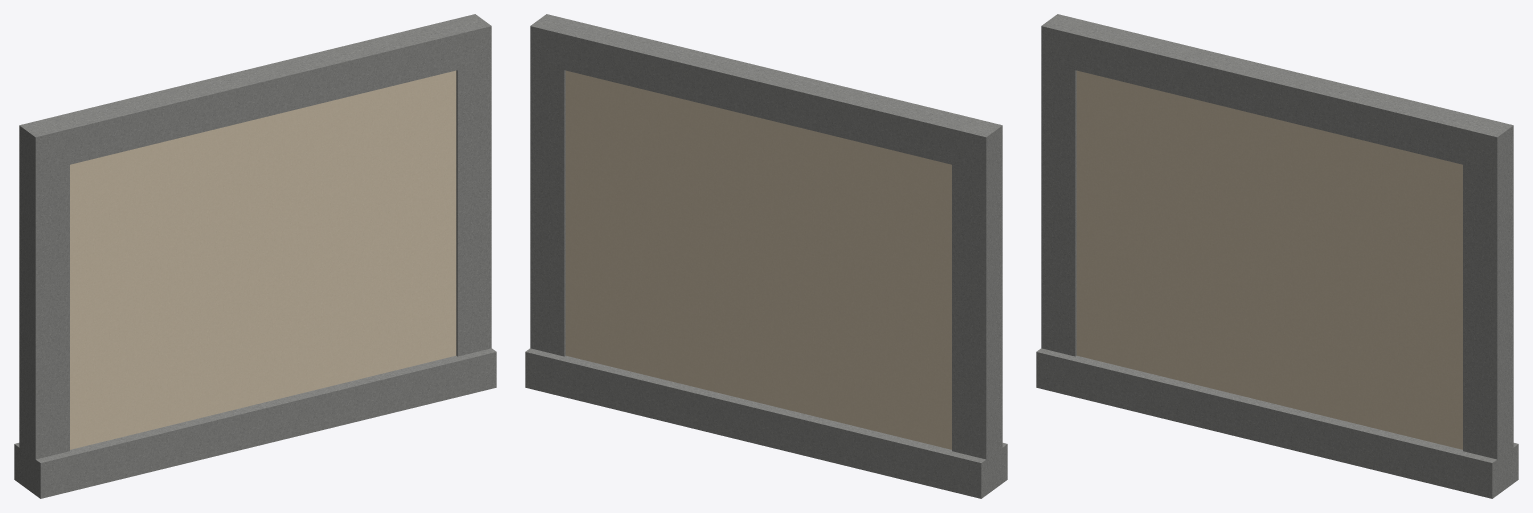
Rendered from estate_wall_4p.glb.
3 views of the same model, side by side, from view 1: azimuth 30°, elevation 25°; view 2: azimuth 150°, elevation 25°; view 3: azimuth 330°, elevation 25° (orthographic).
Visible parts, largest first — view 1: Cube.004, Cube.003, Cube, Cube.001, Cube.002; view 2: Cube.004, Cube.003, Cube, Cube.001, Cube.002; view 3: Cube.004, Cube.003, Cube, Cube.002, Cube.001.
Part boxes in pixels (left/top/right/bottom): Cube.004: left=70, top=70, right=456, bottom=449; Cube.003: left=19, top=14, right=491, bottom=172; Cube: left=14, top=348, right=496, bottom=498; Cube.001: left=19, top=161, right=69, bottom=459; Cube.002: left=456, top=62, right=491, bottom=356; Cube.004: left=565, top=70, right=951, bottom=449; Cube.003: left=530, top=14, right=1002, bottom=172; Cube: left=525, top=348, right=1007, bottom=498; Cube.001: left=952, top=161, right=1002, bottom=459; Cube.002: left=530, top=62, right=565, bottom=356; Cube.004: left=1076, top=70, right=1462, bottom=449; Cube.003: left=1041, top=14, right=1513, bottom=172; Cube: left=1036, top=348, right=1518, bottom=498; Cube.002: left=1463, top=161, right=1513, bottom=459; Cube.001: left=1041, top=62, right=1076, bottom=356.
Size of the model in its own units: 4 by 3 by 0.4.
Materials: 2 (2 with a texture image).
